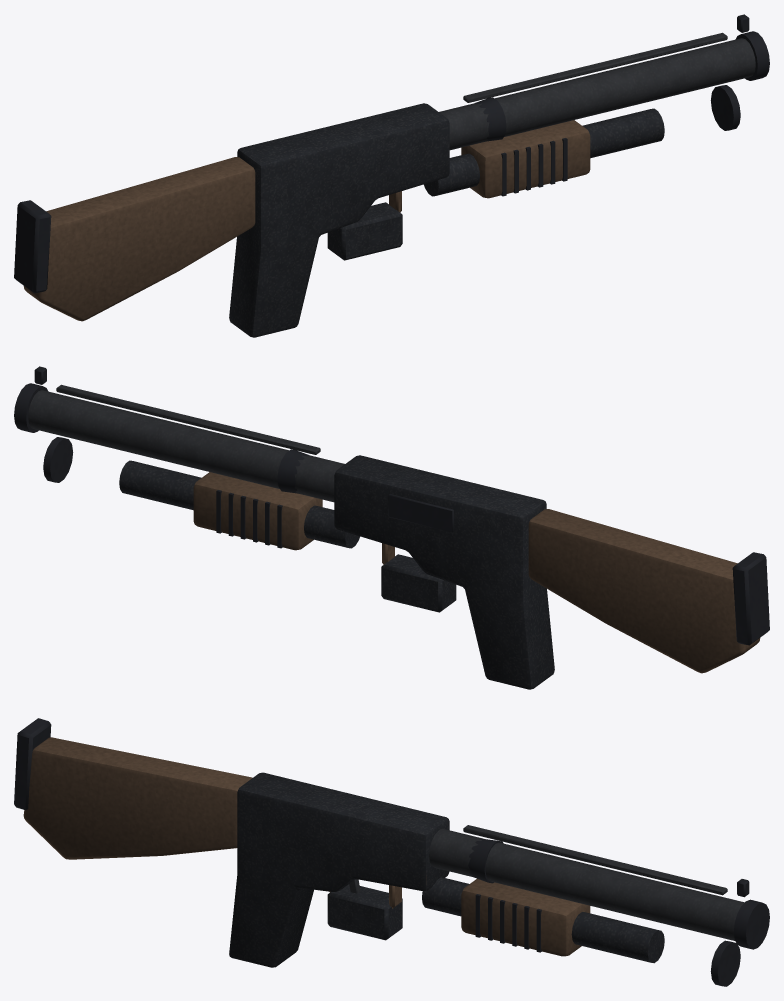
The model's file is shotgun_r1.fbx.
3 views of the same model, one above another, from view 1: azimuth 30°, elevation 25°; view 2: azimuth 150°, elevation 25°; view 3: azimuth 330°, elevation 25° (orthographic).
Parts seen in each view (by area): view 1: Body, Slide, Magazine; view 2: Body, Slide, Magazine; view 3: Body, Slide, Magazine.
Boxes of the visible parts, x1=… form: Body: x1=14, y1=14, x2=769, y2=337; Slide: x1=461, y1=120, x2=590, y2=198; Magazine: x1=327, y1=202, x2=402, y2=260; Body: x1=14, y1=366, x2=769, y2=689; Slide: x1=193, y1=472, x2=322, y2=550; Magazine: x1=381, y1=554, x2=456, y2=612; Body: x1=14, y1=718, x2=769, y2=986; Slide: x1=461, y1=878, x2=590, y2=956; Magazine: x1=327, y1=884, x2=402, y2=940.
Size of the model in its own units: 8.46 by 2.11 by 0.54.
1 material, 1 textured.
